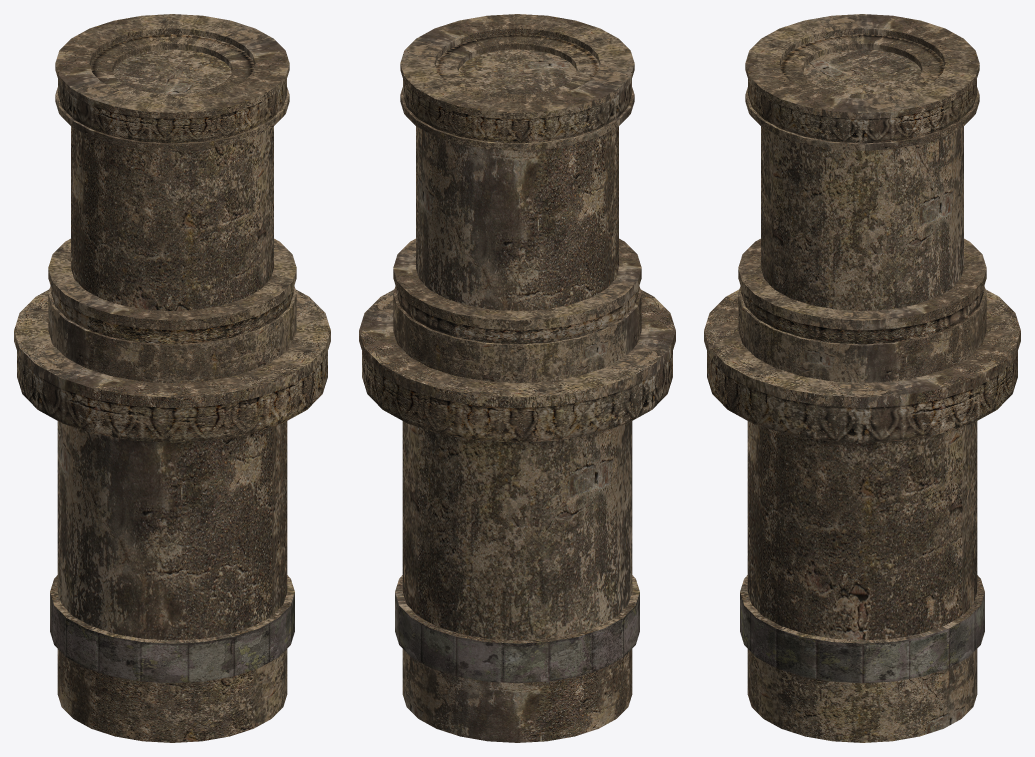
The model's file is materials_5_decoration_18.fbx.
3 renders of one model, left to right at view 1: azimuth 30°, elevation 25°; view 2: azimuth 150°, elevation 25°; view 3: azimuth 270°, elevation 25°, orthographic.
Parts seen in each view (by area): view 1: materials_5_decoration_18; view 2: materials_5_decoration_18; view 3: materials_5_decoration_18.
Boxes of the visible parts, x1=… form: materials_5_decoration_18: x1=14, y1=14, x2=330, y2=742; materials_5_decoration_18: x1=359, y1=14, x2=675, y2=742; materials_5_decoration_18: x1=704, y1=14, x2=1020, y2=742.
Bounding box in the file's own units: 54.21 × 119 × 54.21.
